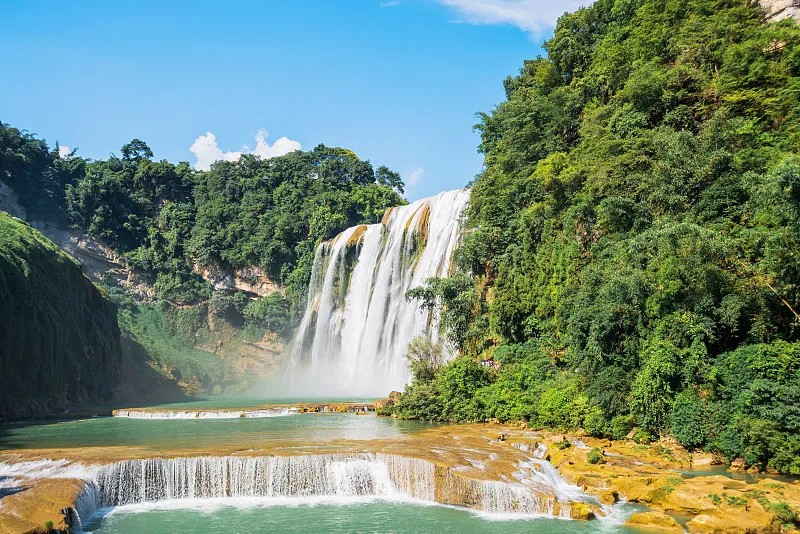Huangguoshu: (293, 189, 471, 400)
